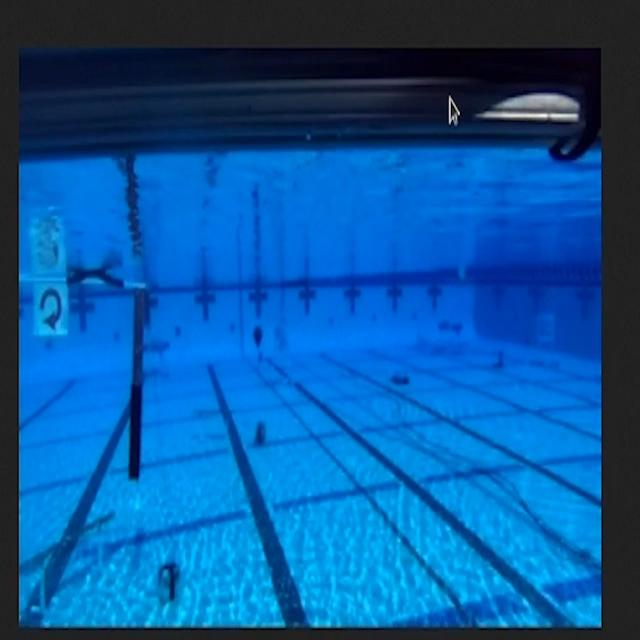Gate: (18, 261, 150, 495)
